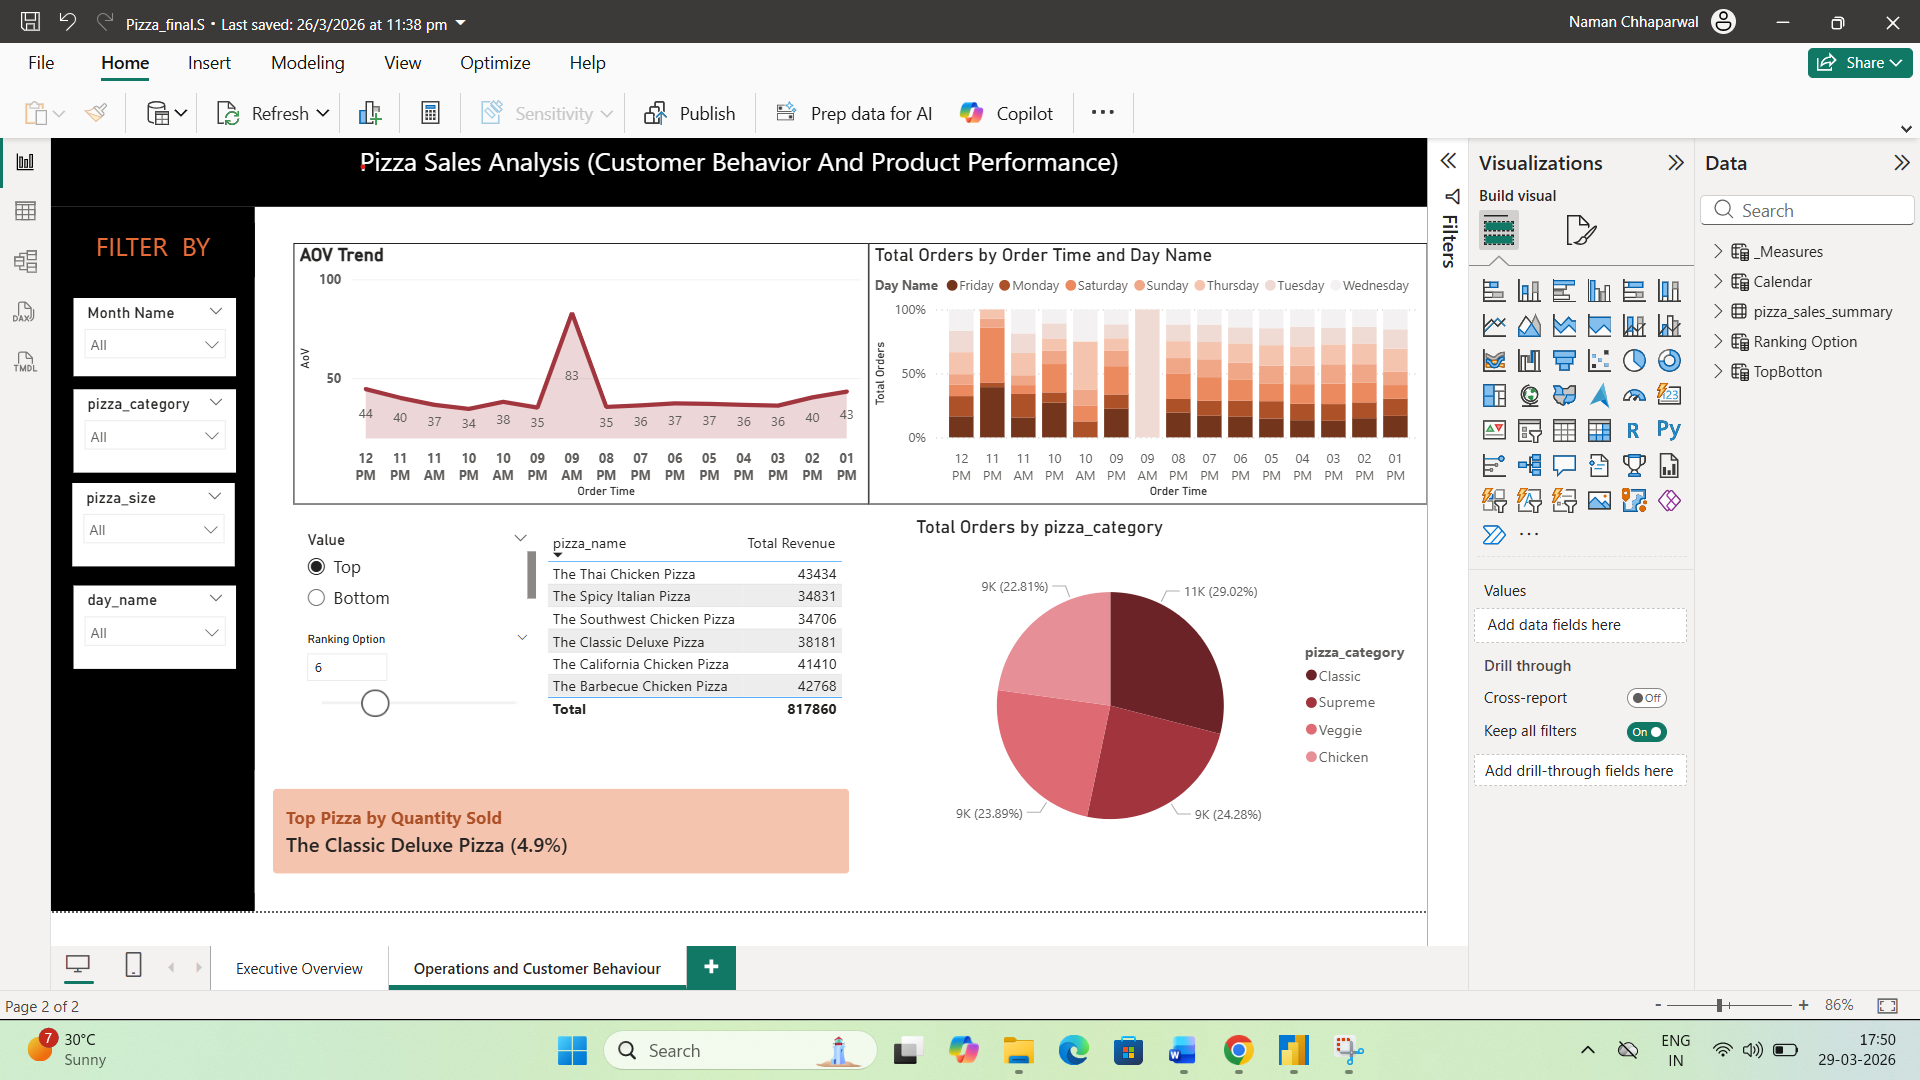

What the dashboard file says about the page in this screenshot:
{"tool":"powerbi","page":{"name":"Operations and Customer Behaviour","canvas":[1280,720],"ordinal":1},"visuals":[{"type":"tableEx","fields":{"Values":["pizza_sales_summary.pizza_name","_Measures.RanK"]},"box":[455.8,360.5,304.7,212.8],"z":0},{"type":"slicer","fields":{"Values":["Ranking Option.Ranking Option"]},"box":[225.6,454.7,230.2,94.2],"z":1000},{"type":"slicer","fields":{"Values":["TopBotton.Value"]},"box":[225.6,360.5,230.2,84.9],"z":2000},{"type":"textbox","box":[0,0,1280.2,64],"z":3000},{"type":"shape","box":[0,64,189.5,655.8],"z":4000},{"type":"slicer","fields":{"Values":["Calendar.Month Name"]},"box":[21.2,148.4,151.4,72.7],"z":5000},{"type":"slicer","fields":{"Values":["pizza_sales_summary.pizza_category"]},"box":[21.2,233.2,151.4,77.2],"z":6000},{"type":"slicer","fields":{"Values":["pizza_sales_summary.pizza_size"]},"box":[19.7,321,151.4,77.2],"z":7000},{"type":"slicer","fields":{"Values":["pizza_sales_summary.day_name"]},"box":[21.2,416.4,151.4,77.2],"z":8000},{"type":"stackedAreaChart","title":"AOV  Trend","fields":{"Y":["_Measures.AoV"],"Category":["pizza_sales_summary.Order Time"]},"box":[225.6,97.7,534.9,243],"z":9000},{"type":"hundredPercentStackedColumnChart","fields":{"Category":["pizza_sales_summary.Order Time"],"Y":["_Measures.Total_Orders"],"Series":["Calendar.Day Name"]},"box":[760.5,97.7,519.8,243],"z":10000},{"type":"pieChart","fields":{"Y":["_Measures.Total_Orders"],"Category":["pizza_sales_summary.pizza_category"]},"box":[800,351.2,480.2,244.2],"z":11000},{"type":"textbox","box":[0,79.1,189.5,50],"z":12000},{"type":"cardVisual","fields":{"Data":["_Measures.Top Pizza with Qty"]},"box":[302.3,595.4,357,96.5],"z":13000}]}

Visuals, with their boxes on the page's 1280x720 design canvas (x1, y1, x2, y2). These are canvas units, not pixel positions in the 1920x1080 screenshot, which may show the page scaled, cropped or inside an application window:
tableEx - pizza_sales_summary.pizza_name x _Measures.RanK: Rect(456, 360, 760, 573)
slicer - Ranking Option.Ranking Option: Rect(226, 455, 456, 549)
slicer - TopBotton.Value: Rect(226, 360, 456, 445)
textbox: Rect(0, 0, 1280, 64)
shape: Rect(0, 64, 190, 720)
slicer - Calendar.Month Name: Rect(21, 148, 173, 221)
slicer - pizza_sales_summary.pizza_category: Rect(21, 233, 173, 310)
slicer - pizza_sales_summary.pizza_size: Rect(20, 321, 171, 398)
slicer - pizza_sales_summary.day_name: Rect(21, 416, 173, 494)
"AOV  Trend" stackedAreaChart: Rect(226, 98, 760, 341)
hundredPercentStackedColumnChart - pizza_sales_summary.Order Time x _Measures.Total_Orders: Rect(760, 98, 1280, 341)
pieChart - _Measures.Total_Orders x pizza_sales_summary.pizza_category: Rect(800, 351, 1280, 595)
textbox: Rect(0, 79, 190, 129)
cardVisual - _Measures.Top Pizza with Qty: Rect(302, 595, 659, 692)
